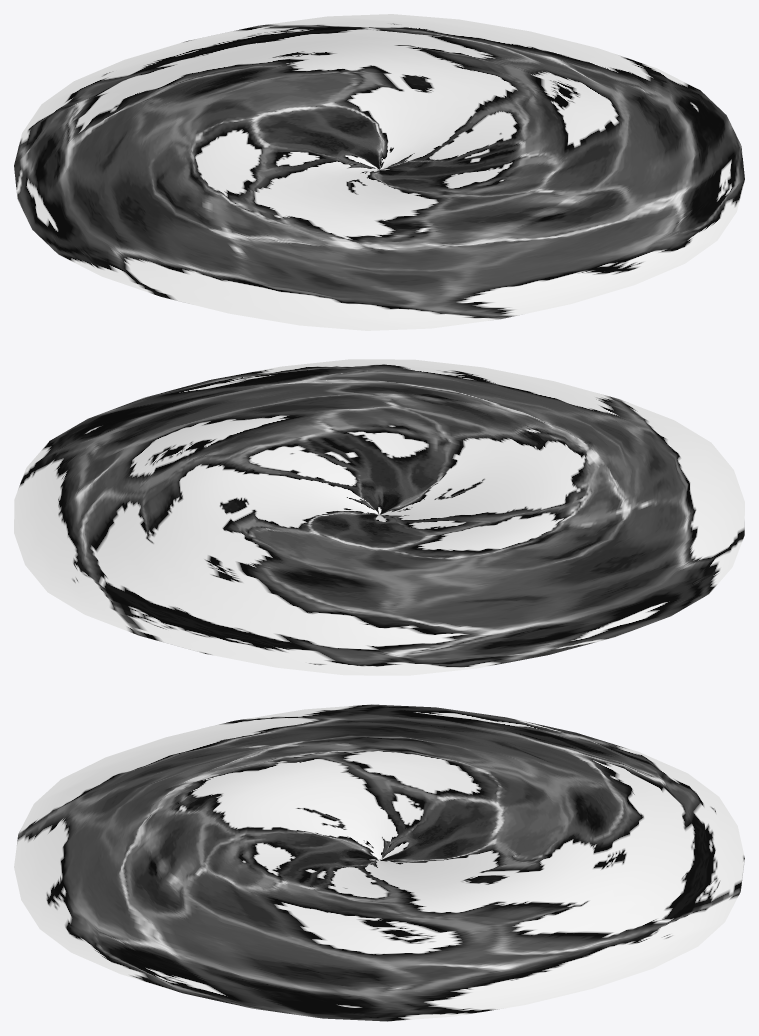
Rendered from E3D-Disk38-bh41.FBX.
3 renders of one model, top to bottom at view 1: azimuth 30°, elevation 25°; view 2: azimuth 150°, elevation 25°; view 3: azimuth 270°, elevation 25°, orthographic.
Visible parts, largest first — view 1: Sphere001; view 2: Sphere001; view 3: Sphere001.
Part boxes in pixels (x1,y1,x2,y2): Sphere001: (14,14,744,330); Sphere001: (14,359,744,675); Sphere001: (14,704,744,1021).
Bounding box in the file's own units: 46.76 × 2.01 × 45.56.
1 material, 1 textured.
